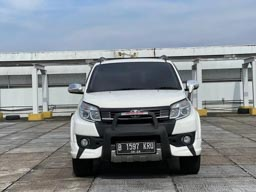plat: (116, 141, 155, 149)
